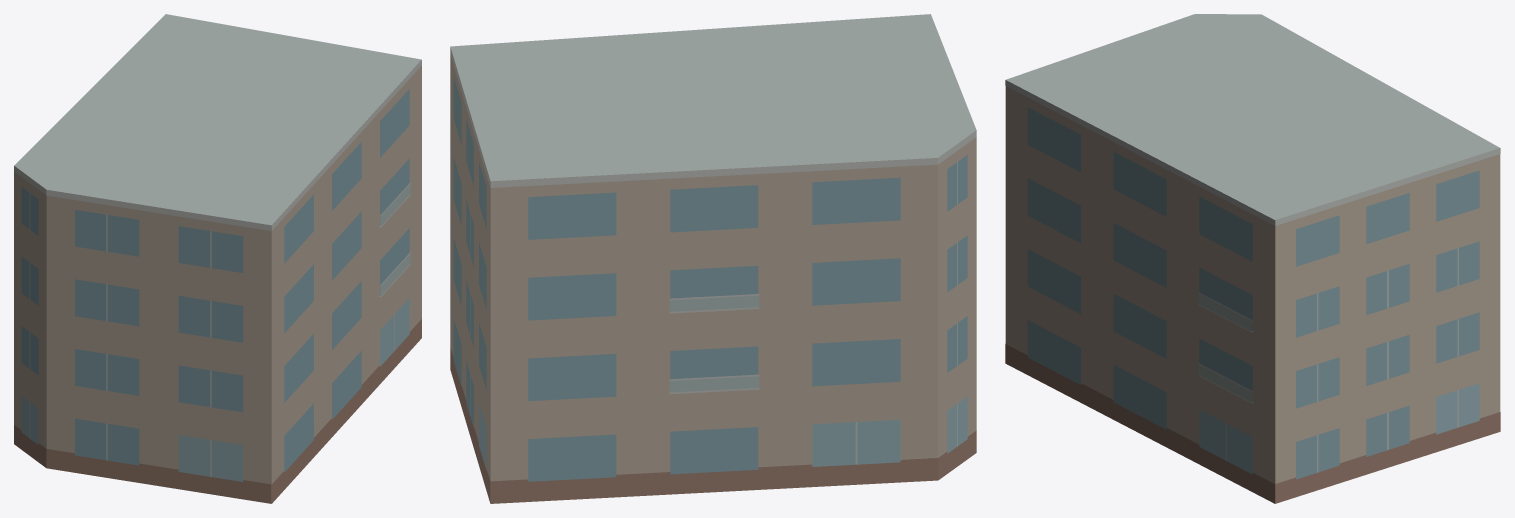
The model's file is survey-upis-32963611.glb.
3 views of the same model, side by side, from view 1: azimuth 30°, elevation 25°; view 2: azimuth 150°, elevation 25°; view 3: azimuth 270°, elevation 25° (orthographic). The views are drawn at different scales.
Parts seen in each view (by area): view 1: survey-upis-32963611.tmp; view 2: survey-upis-32963611.tmp; view 3: survey-upis-32963611.tmp.
Boxes of the visible parts, x1=… form: survey-upis-32963611.tmp: x1=14, y1=14, x2=421, y2=503; survey-upis-32963611.tmp: x1=450, y1=14, x2=976, y2=503; survey-upis-32963611.tmp: x1=1005, y1=14, x2=1500, y2=503.
Size of the model in its own units: 18.25 by 11.7 by 18.51.
